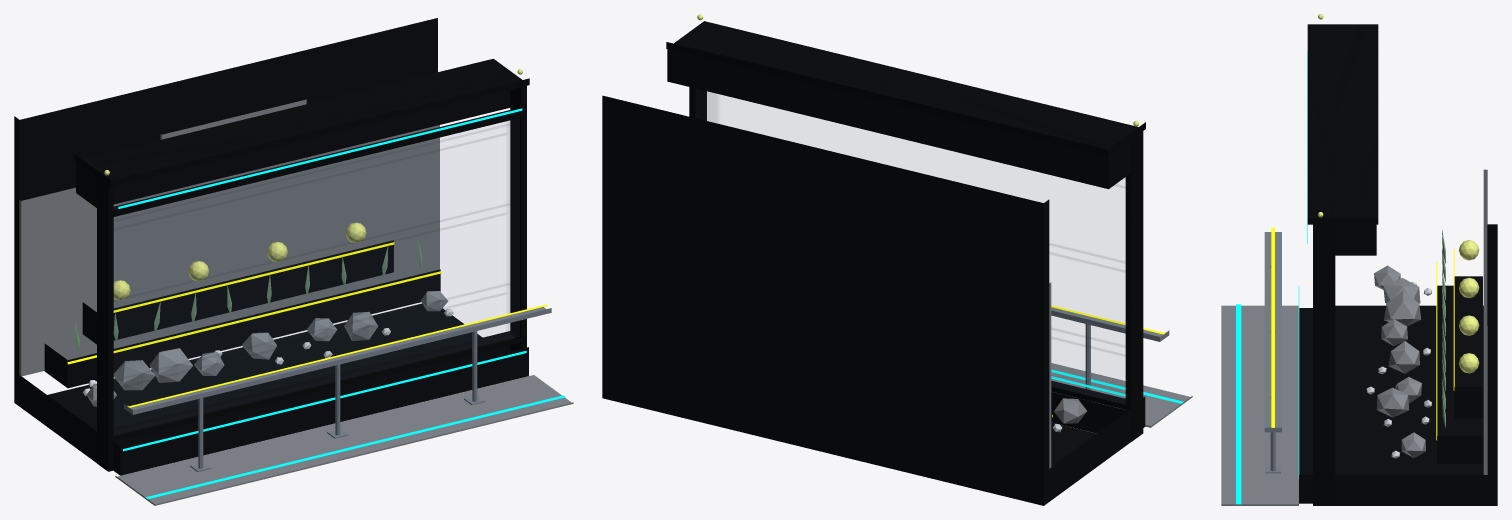
The model's file is v1_court_tank.glb.
The picture shows the model from 3 angles, left to right: view 1: azimuth 30°, elevation 25°; view 2: azimuth 150°, elevation 25°; view 3: azimuth 270°, elevation 25°; orthographic projection. The views are drawn at different scales.
Parts seen in each view (by area): view 1: Tank_Shell, Reef_Backdrop, Acrylic_Frame, Reef_Terraces, Terrazzo_Strip, Sill_Nosing, Glass_Acrylic, Reef_Rocks, Lean_Rail, Terrace_Court_Line, Cyan_Inlay, Ball_Buoys (+4 smaller); view 2: Tank_Shell, Acrylic_Frame, Terrazzo_Strip, Sill_Nosing, Glass_Acrylic, Lean_Rail; view 3: Tank_Shell, Acrylic_Frame, Terrazzo_Strip, Reef_Terraces, Reef_Rocks, Lean_Rail, Sill_Nosing, Reef_Backdrop, Ball_Buoys, Cyan_Inlay, Rail_Accent, Sea_Grass (+3 smaller).
Boxes of the visible parts, x1,y1,x2,y2 form: Tank_Shell: (14, 18, 514, 462); Reef_Backdrop: (19, 99, 439, 376); Acrylic_Frame: (75, 58, 529, 471); Reef_Terraces: (44, 240, 440, 388); Terrazzo_Strip: (115, 375, 573, 505); Sill_Nosing: (113, 347, 528, 475); Glass_Acrylic: (114, 118, 519, 389); Reef_Rocks: (86, 291, 448, 406); Lean_Rail: (124, 307, 551, 472); Terrace_Court_Line: (67, 242, 441, 364); Cyan_Inlay: (145, 395, 565, 498); Ball_Buoys: (113, 222, 366, 300); Tank_Shell: (602, 49, 1130, 505); Acrylic_Frame: (666, 21, 1145, 441); Terrazzo_Strip: (1051, 363, 1192, 427); Sill_Nosing: (1051, 392, 1145, 433); Glass_Acrylic: (705, 91, 1125, 356); Lean_Rail: (1051, 307, 1169, 401); Tank_Shell: (1335, 224, 1497, 505); Acrylic_Frame: (1307, 24, 1378, 505); Terrazzo_Strip: (1221, 305, 1298, 505); Reef_Terraces: (1437, 276, 1482, 463); Reef_Rocks: (1374, 265, 1425, 457); Lean_Rail: (1264, 232, 1281, 473); Sill_Nosing: (1299, 308, 1312, 503); Reef_Backdrop: (1483, 169, 1487, 474); Ball_Buoys: (1458, 240, 1479, 373); Cyan_Inlay: (1236, 304, 1241, 504); Rail_Accent: (1271, 227, 1274, 427); Sea_Grass: (1442, 229, 1445, 427).
Size of what is drawn, in the model's own units: 5.5 by 3.74 by 3.2.
10 materials, 5 textured.
